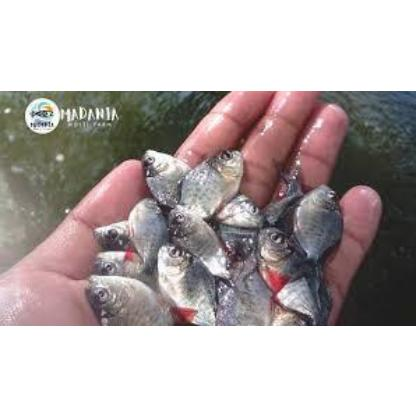ikan-pacu: (254, 226, 324, 324), (152, 246, 218, 324), (81, 273, 165, 325), (167, 206, 227, 270), (297, 182, 343, 258), (142, 144, 192, 206), (124, 196, 166, 268), (93, 249, 143, 271)
